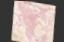plaque psoriasis: (24, 6, 55, 42), (8, 0, 32, 42), (13, 1, 55, 9)
